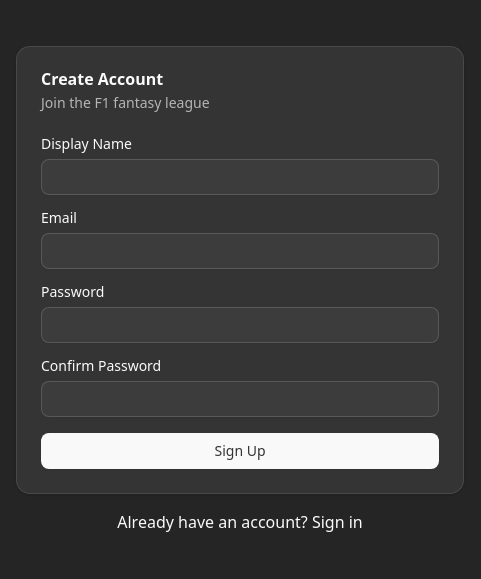
SignUpForm › shows error if passwords do not match
Type "Test User" into the field labelled "Display Name".
click(240, 177); type("Test User")  # box top-left (41, 159), bottom-right (439, 195)
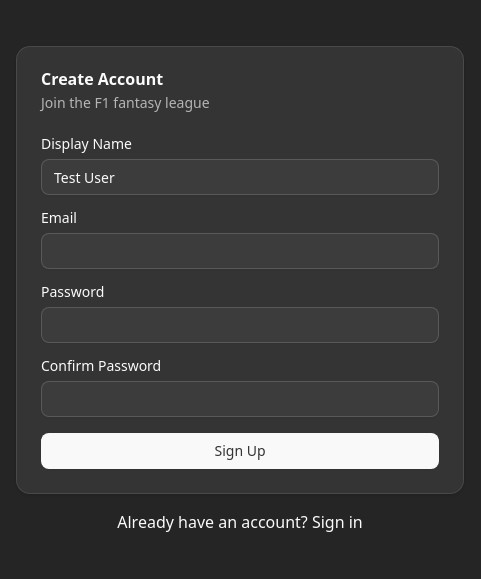
Type "test@example.com" into the field labelled "Email".
click(240, 251); type("test@example.com")  # box top-left (41, 233), bottom-right (439, 269)
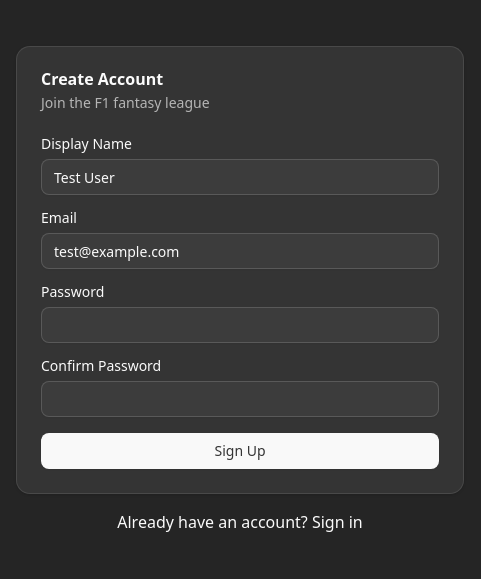
Type "password1" into the password field labelled "Password".
click(240, 325); type("password1")  # box top-left (41, 307), bottom-right (439, 343)
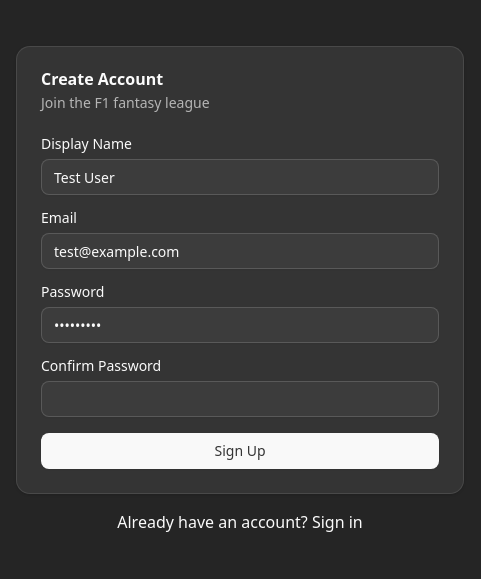
Type "password2" into the password field labelled "Confirm Password".
click(240, 399); type("password2")  # box top-left (41, 381), bottom-right (439, 417)
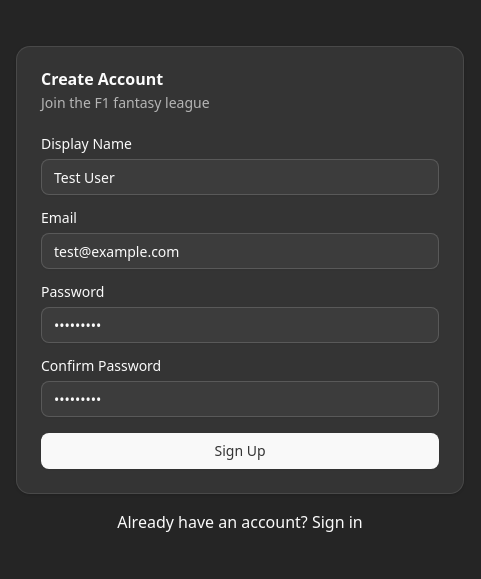
Click the button "Sign Up".
click(240, 451)  # box top-left (41, 433), bottom-right (439, 469)
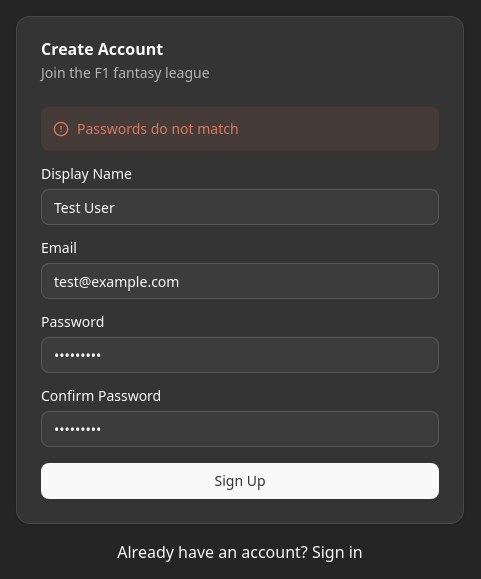
Result: the message reads "Passwords do not match" at top-left (77, 119), bottom-right (239, 138)
